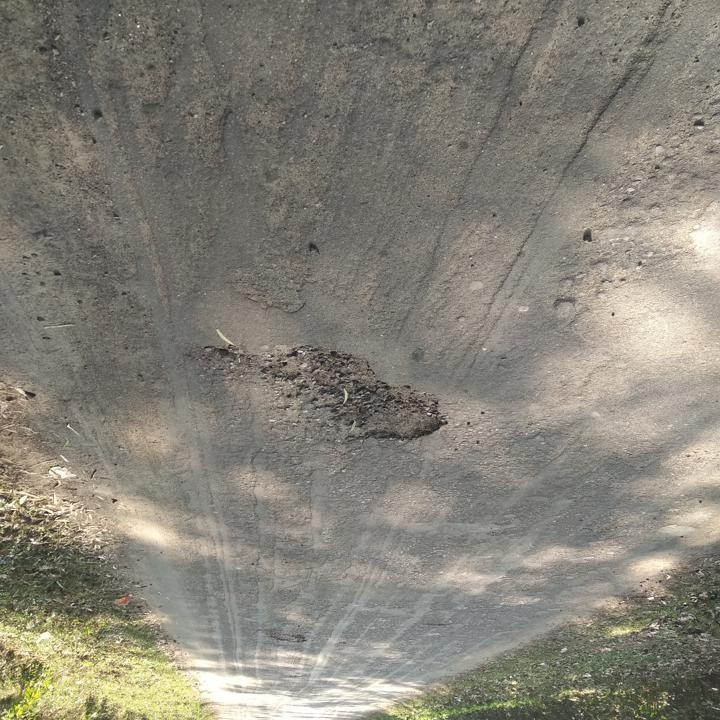pothole: (263, 344, 453, 446), (268, 630, 309, 648)
